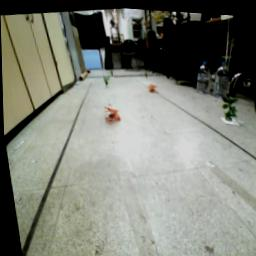herb: (219, 88, 243, 121), (103, 74, 111, 85)
wild: (103, 103, 122, 122), (147, 82, 158, 91)
